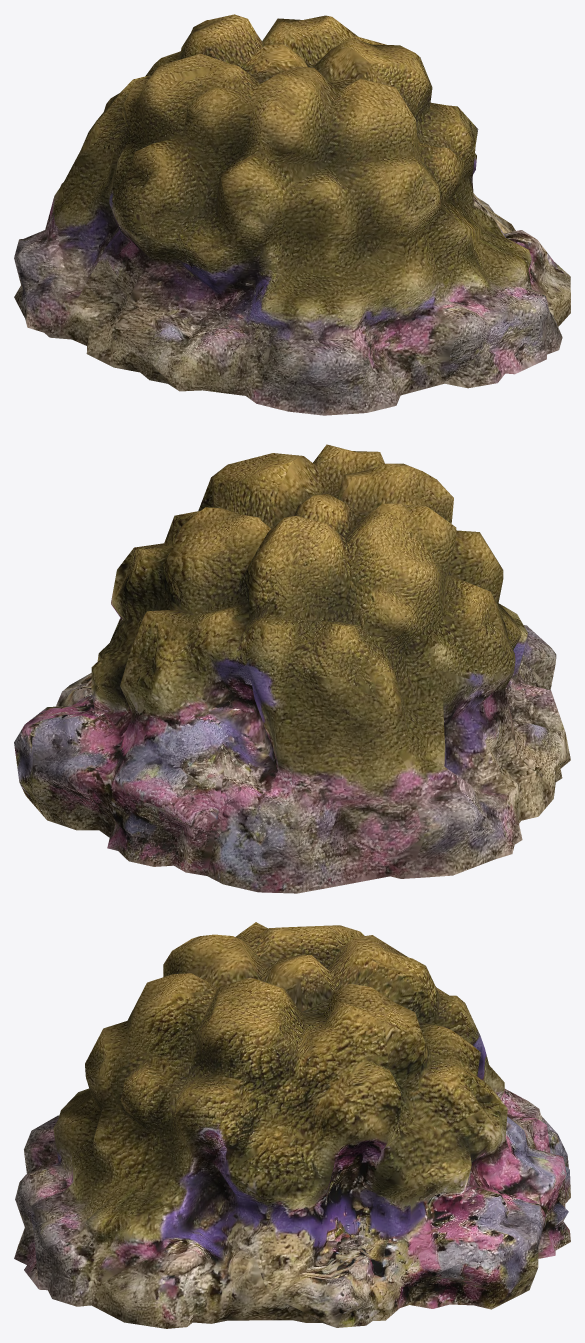
The model's file is sterkoraal.glb.
3 views of the same model, one above another, from view 1: azimuth 30°, elevation 25°; view 2: azimuth 150°, elevation 25°; view 3: azimuth 270°, elevation 25° (orthographic). The views are drawn at different scales.
Parts seen in each view (by area): view 1: tripo_node_846374e4-1908-4ec9-b411-5976c610bbf7; view 2: tripo_node_846374e4-1908-4ec9-b411-5976c610bbf7; view 3: tripo_node_846374e4-1908-4ec9-b411-5976c610bbf7.
Boxes of the visible parts, <box> form: tripo_node_846374e4-1908-4ec9-b411-5976c610bbf7: <box>14,14,570,415</box>; tripo_node_846374e4-1908-4ec9-b411-5976c610bbf7: <box>14,444,570,893</box>; tripo_node_846374e4-1908-4ec9-b411-5976c610bbf7: <box>14,922,570,1328</box>.
Size of the model in its own units: 0.4386 by 0.2491 by 0.4679.
Materials: 1 (1 with a texture image).
